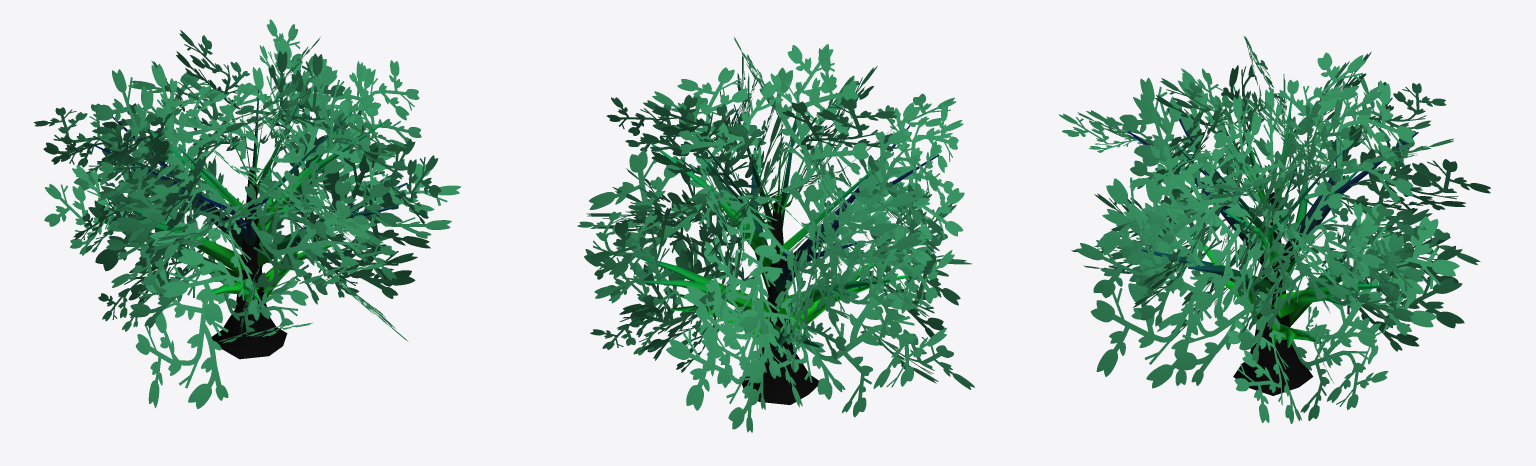
File: SM_DebugBush01.fbx
3 renders of one model, left to right at view 1: azimuth 30°, elevation 25°; view 2: azimuth 150°, elevation 25°; view 3: azimuth 270°, elevation 25°, orthographic. The views are drawn at different scales.
Parts seen in each view (by area): view 1: Tree_1, Tree_0; view 2: Tree_1, Tree_0; view 3: Tree_1, Tree_0.
Boxes of the visible parts, bbox=[...] form: Tree_1: bbox=[33, 19, 460, 408]; Tree_0: bbox=[92, 89, 407, 359]; Tree_1: bbox=[577, 36, 974, 432]; Tree_0: bbox=[636, 104, 938, 404]; Tree_1: bbox=[1058, 36, 1490, 423]; Tree_0: bbox=[1127, 86, 1418, 395].
Bounding box in the file's own units: 139 × 126 × 143.
Materials: 1 (1 with a texture image).
